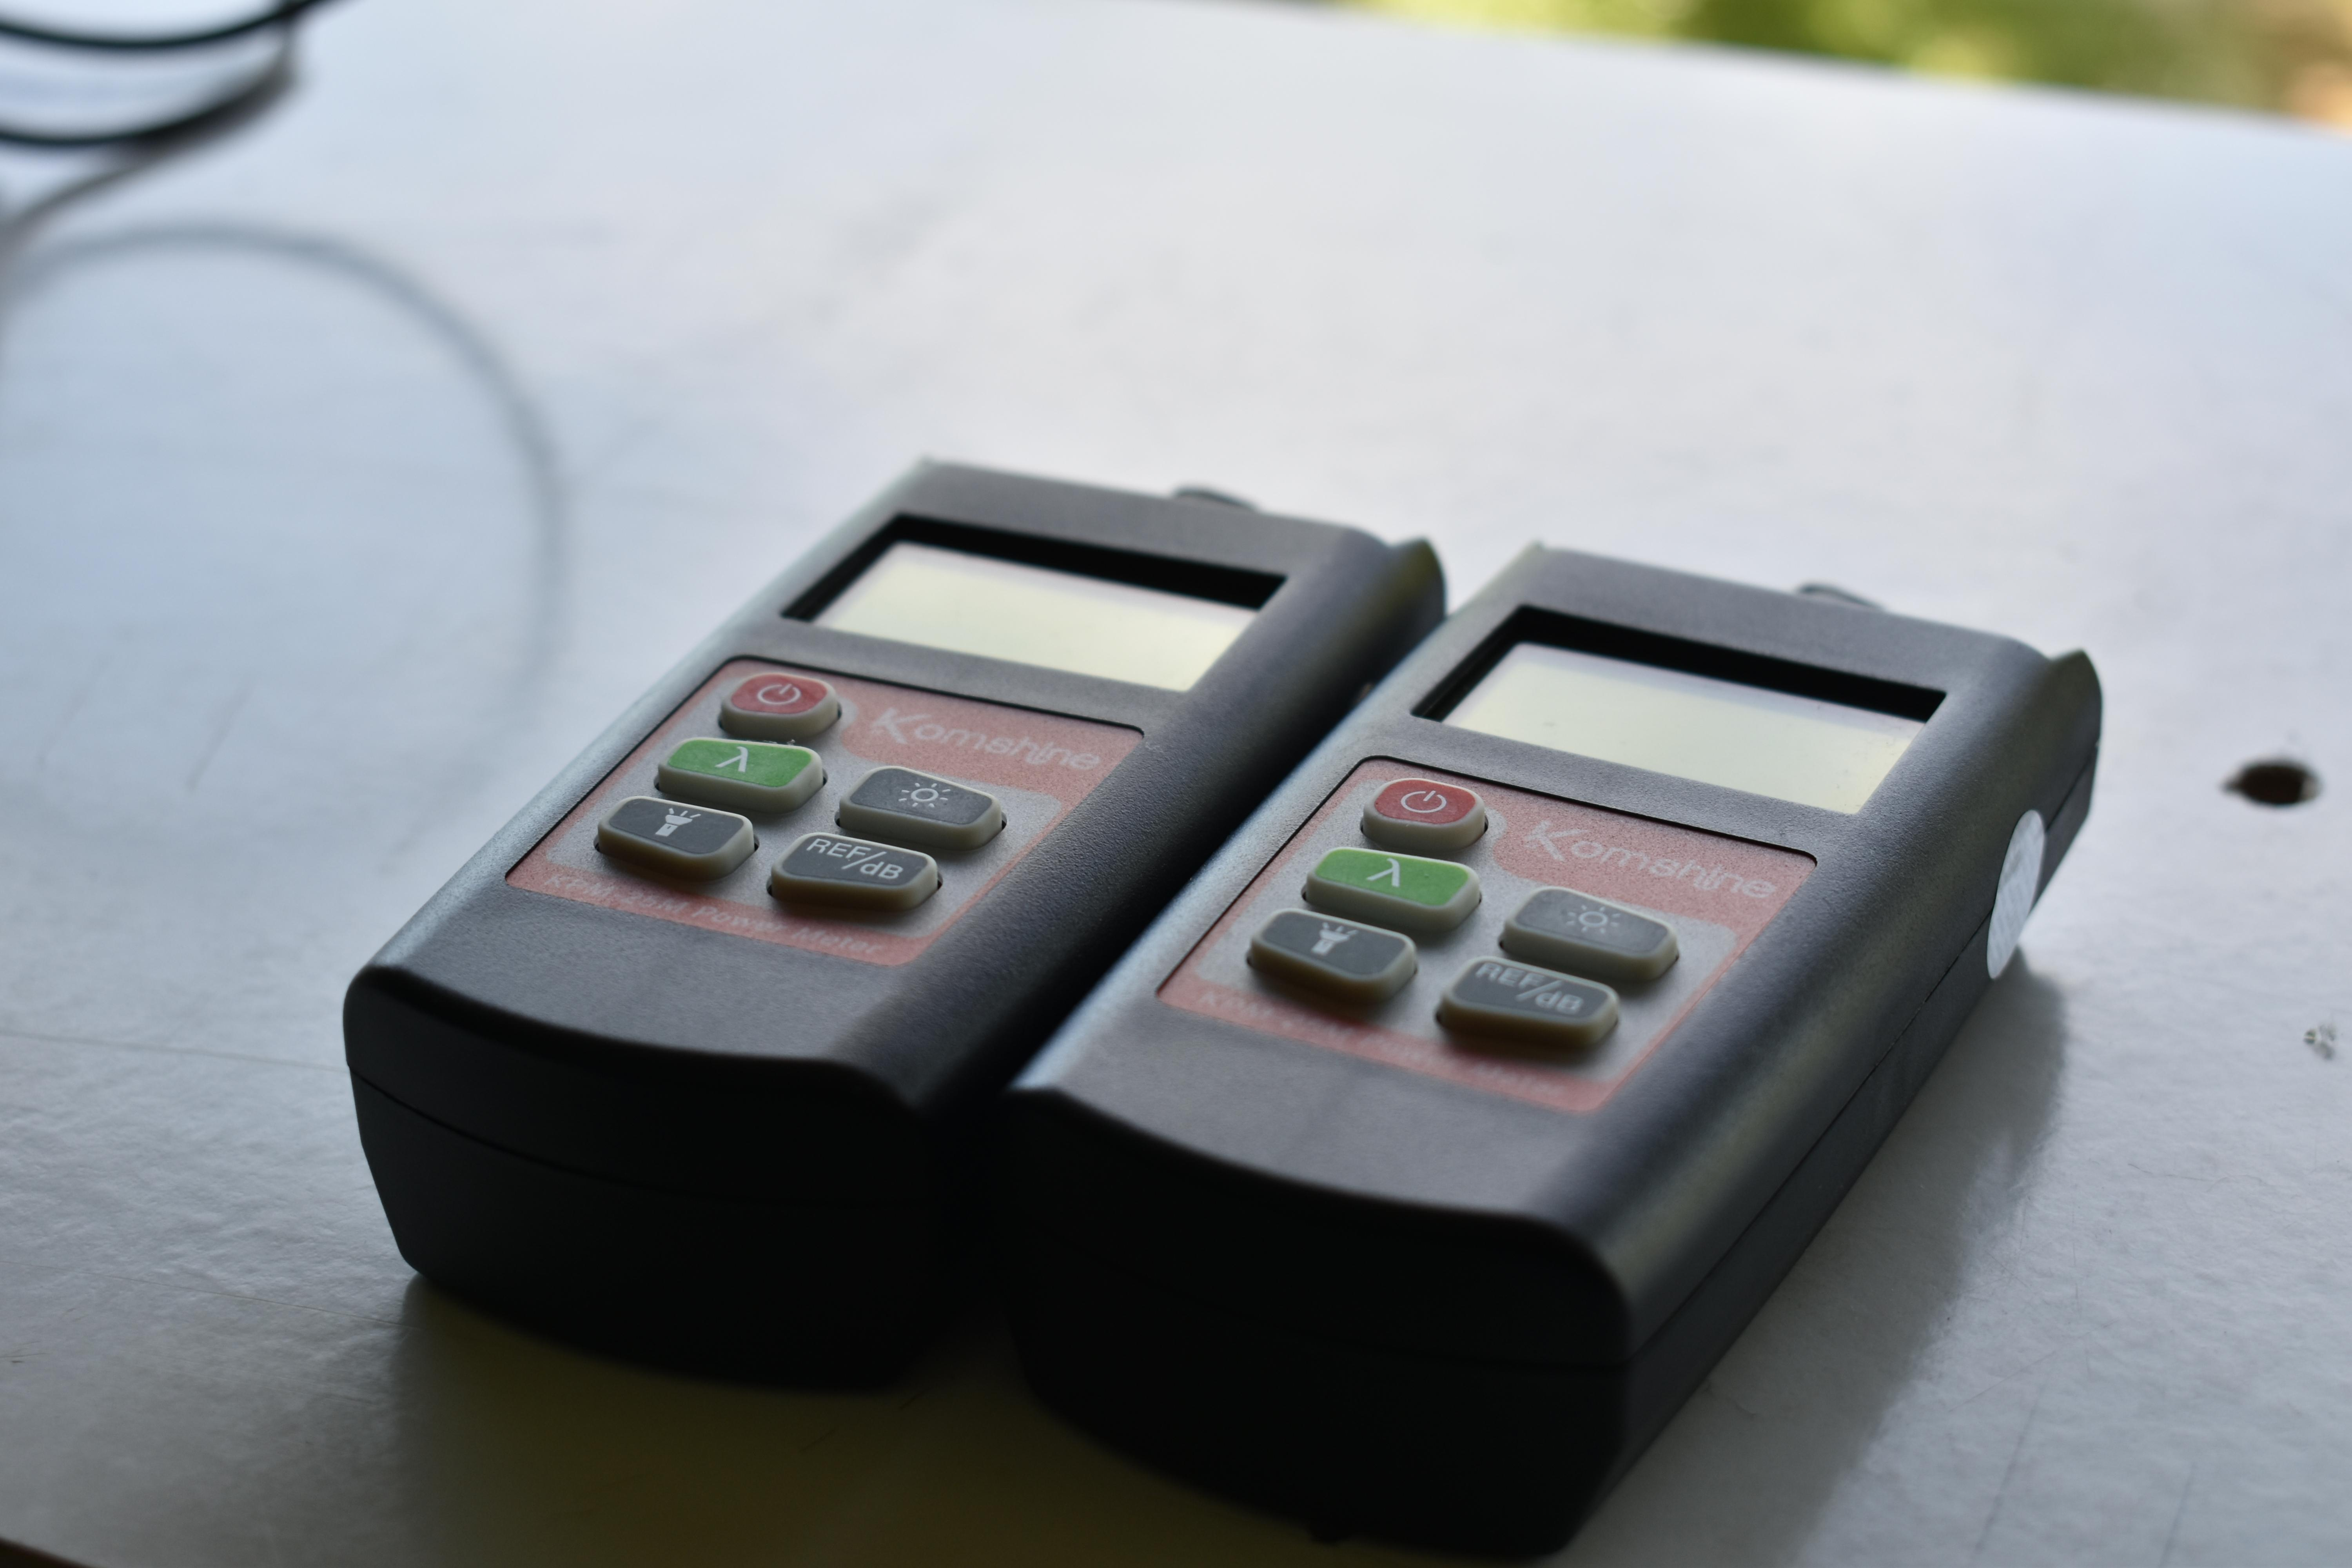powermeter: (985, 530, 2114, 1568), (324, 445, 1459, 1418)
